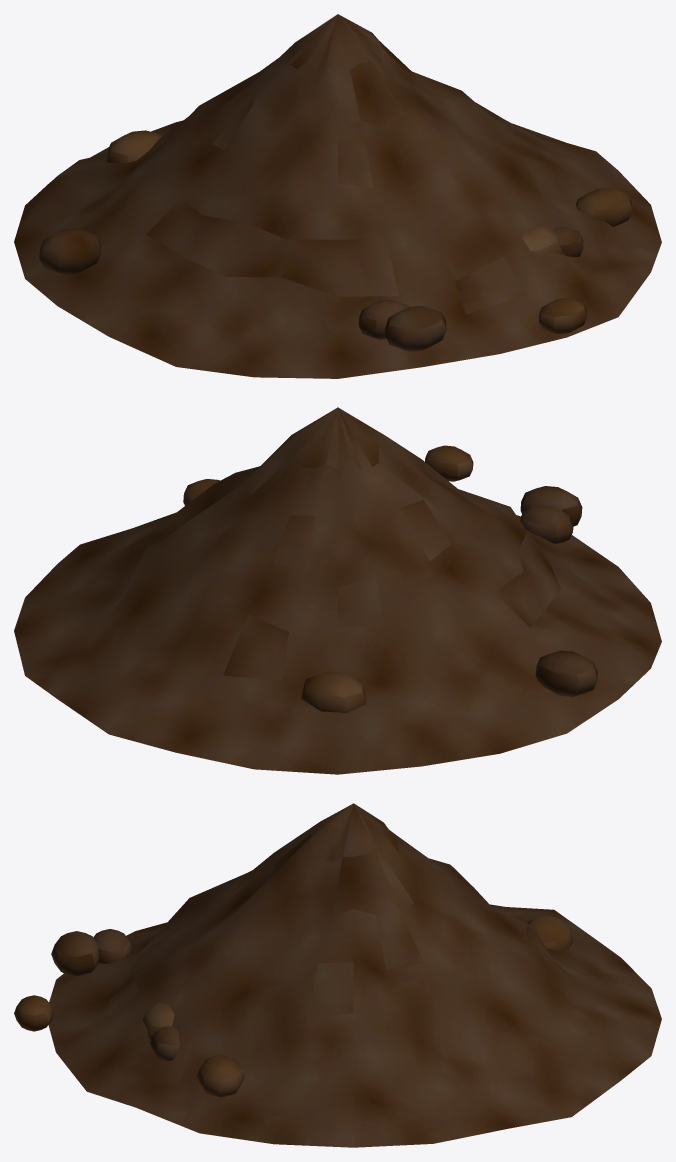
File: dirtpile.glb
The picture shows the model from 3 angles, top to bottom: view 1: azimuth 30°, elevation 25°; view 2: azimuth 150°, elevation 25°; view 3: azimuth 270°, elevation 25°; orthographic projection. The views are drawn at different scales.
Parts seen in each view (by area): view 1: heap; view 2: heap; view 3: heap.
Boxes of the visible parts, x1,y1,x2,y2 form: heap: [14, 14, 661, 378]; heap: [14, 407, 661, 774]; heap: [14, 803, 661, 1147].
Bounding box in the file's own units: 1.41 × 0.564 × 1.48.
2 materials, 2 textured.
